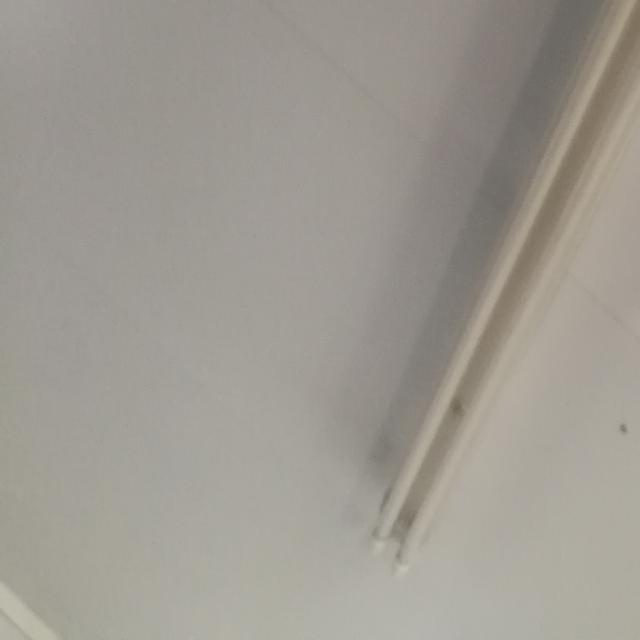fluorescent tube: (363, 0, 640, 597)
